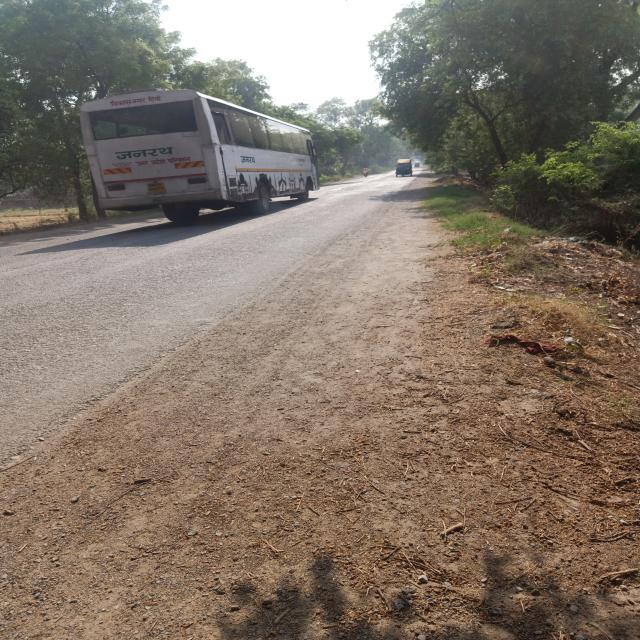Auto: (395, 159, 413, 176)
Bus: (80, 89, 318, 222)
